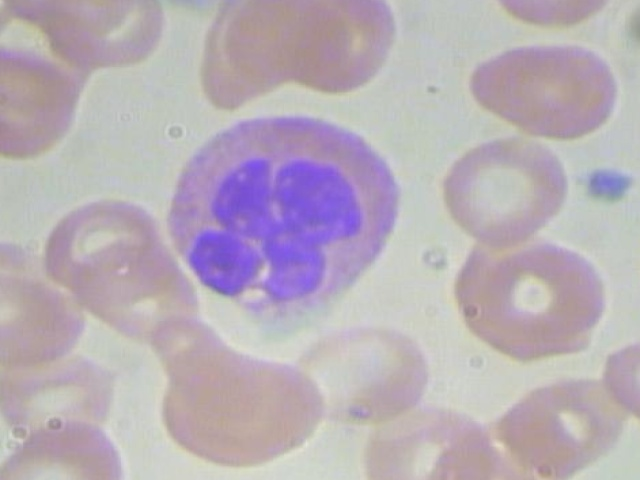Platelets: (571, 153, 640, 206)
RBC: (459, 233, 621, 357), (276, 311, 438, 434), (433, 130, 581, 247), (471, 37, 617, 146), (0, 46, 89, 168), (0, 259, 92, 368), (474, 0, 624, 29)
WBC: (155, 109, 416, 336)
